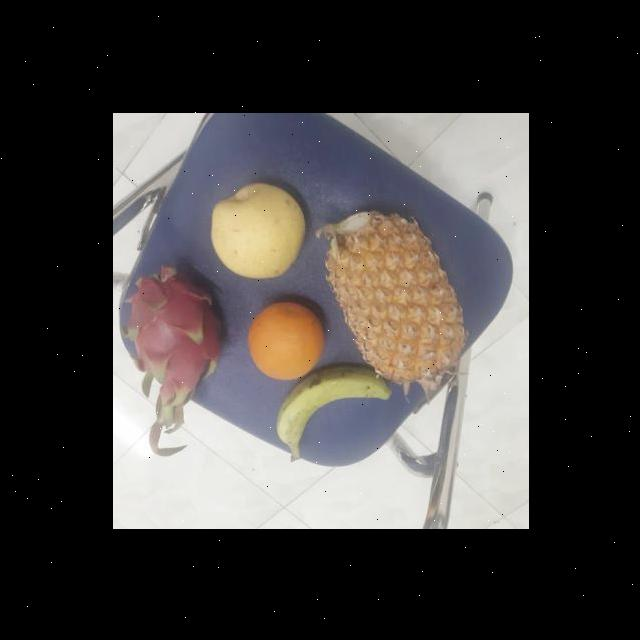banana: (276, 366, 394, 462)
orange: (244, 301, 328, 381)
pear: (209, 181, 310, 276)
pineapple: (322, 212, 468, 379)
pitaya: (123, 262, 230, 398)
